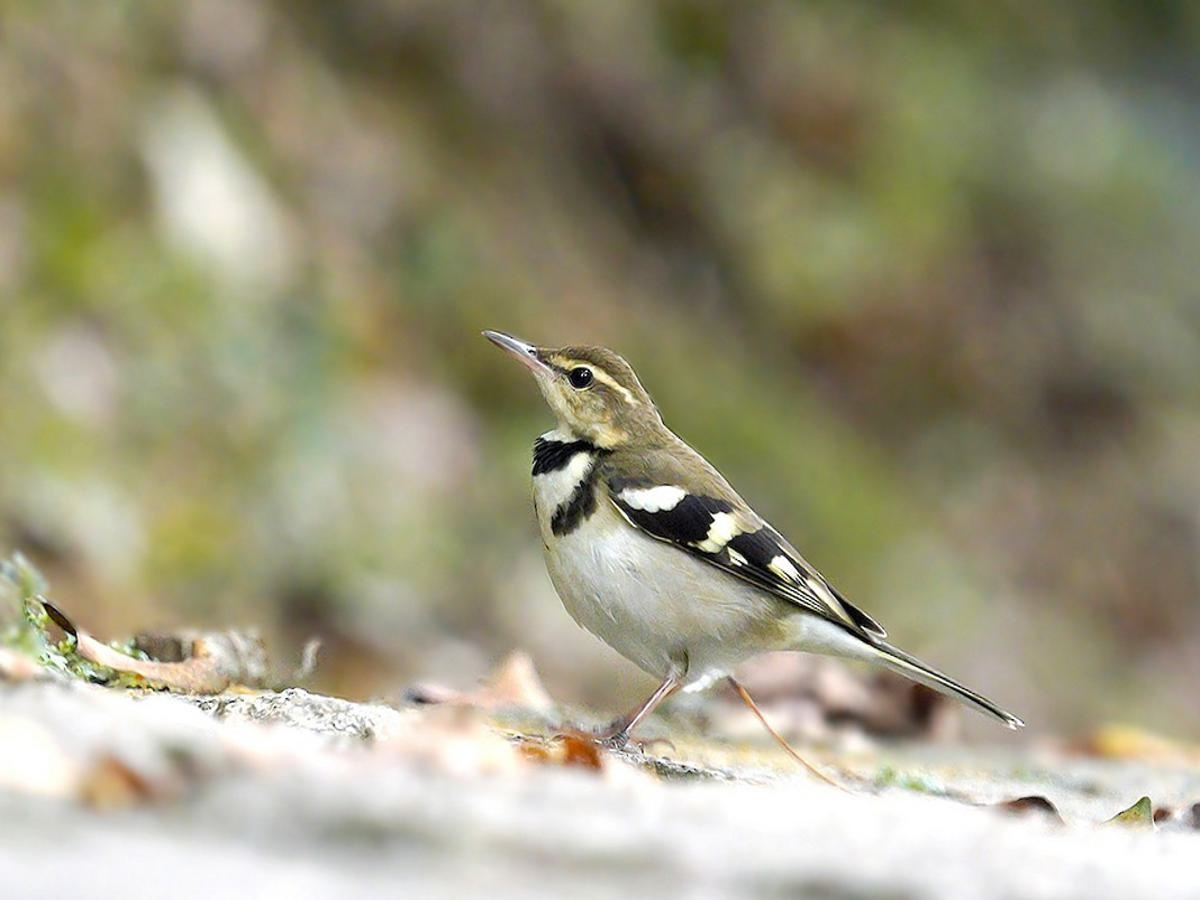wagtail: (470, 316, 994, 792)
